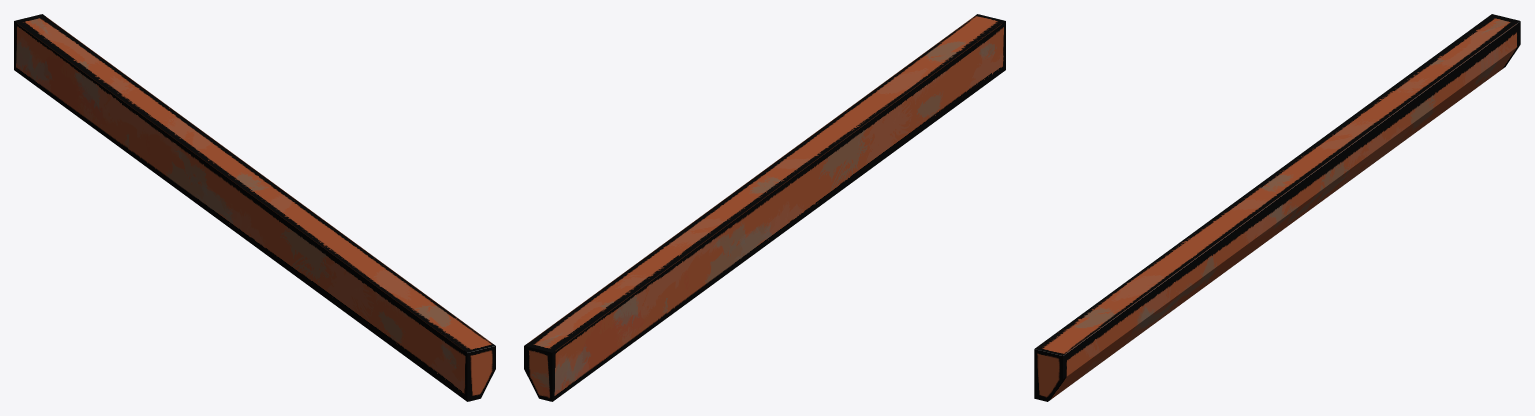
The model's file is 1-TopLedge.fbx.
The picture shows the model from 3 angles, left to right: view 1: azimuth 30°, elevation 25°; view 2: azimuth 150°, elevation 25°; view 3: azimuth 330°, elevation 25°; orthographic projection.
Parts seen in each view (by area): view 1: Cube.005; view 2: Cube.005; view 3: Cube.005.
Boxes of the visible parts, bbox=[...] form: Cube.005: bbox=[14, 14, 495, 401]; Cube.005: bbox=[524, 14, 1005, 401]; Cube.005: bbox=[1034, 14, 1520, 401].
Bounding box in the file's own units: 39.4 × 64.96 × 1086.
1 material, 1 textured.
